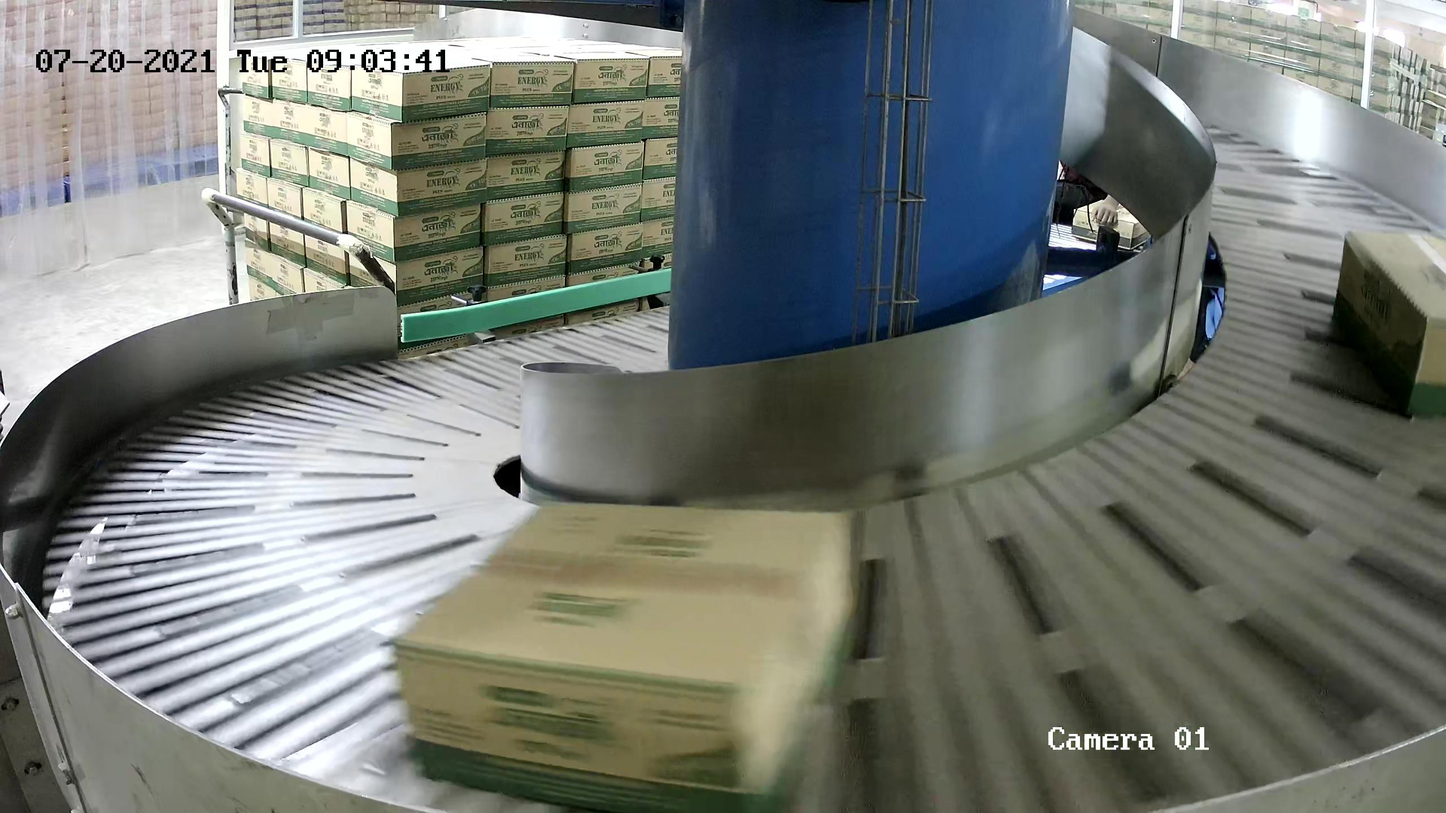Box: (392, 499, 861, 813), (1332, 227, 1446, 419)
